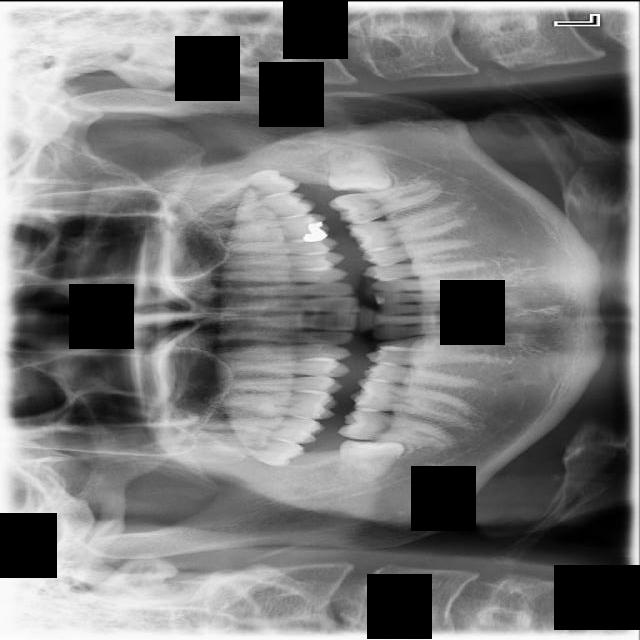3M ESPE Implant: (173, 430, 306, 468)
52: (285, 211, 333, 242)
73: (612, 14, 617, 20)
BioHorizons Implant: (207, 189, 316, 223)
BioLife Implant: (188, 167, 303, 204)
Biomet 3i Implant: (325, 145, 393, 194)
Blue Sky Bio Implant: (327, 175, 445, 229)
Caries: (186, 411, 323, 443)
Implant: (337, 404, 456, 448)
Keystone Dental Implant: (334, 438, 404, 482)
